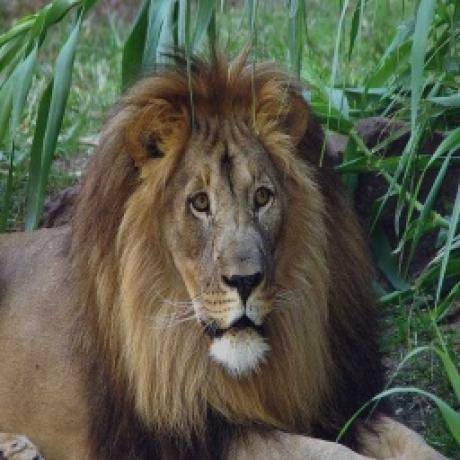Lion: (0, 51, 453, 460)
